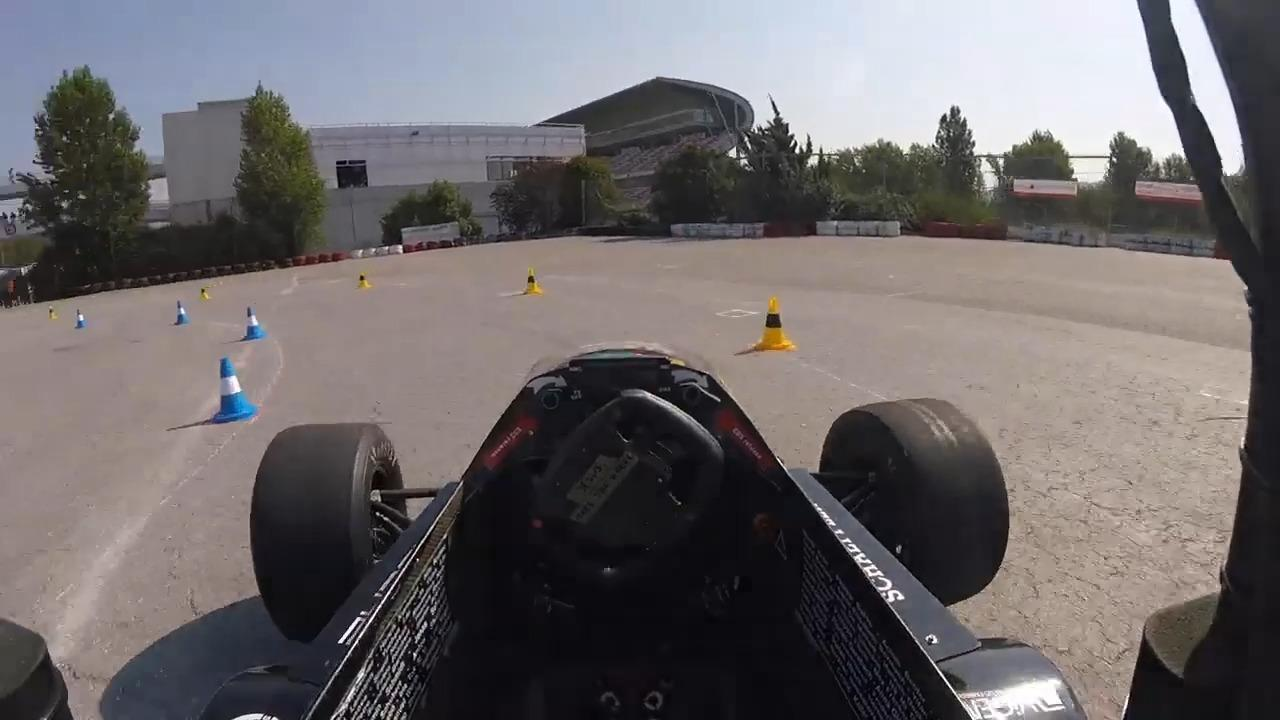blue_cone: (207, 356, 261, 425), (238, 305, 269, 343), (170, 297, 193, 326), (73, 306, 90, 330)
yellow_cone: (749, 293, 796, 355), (519, 263, 544, 297), (354, 269, 372, 292), (196, 282, 212, 302), (47, 304, 58, 320)
